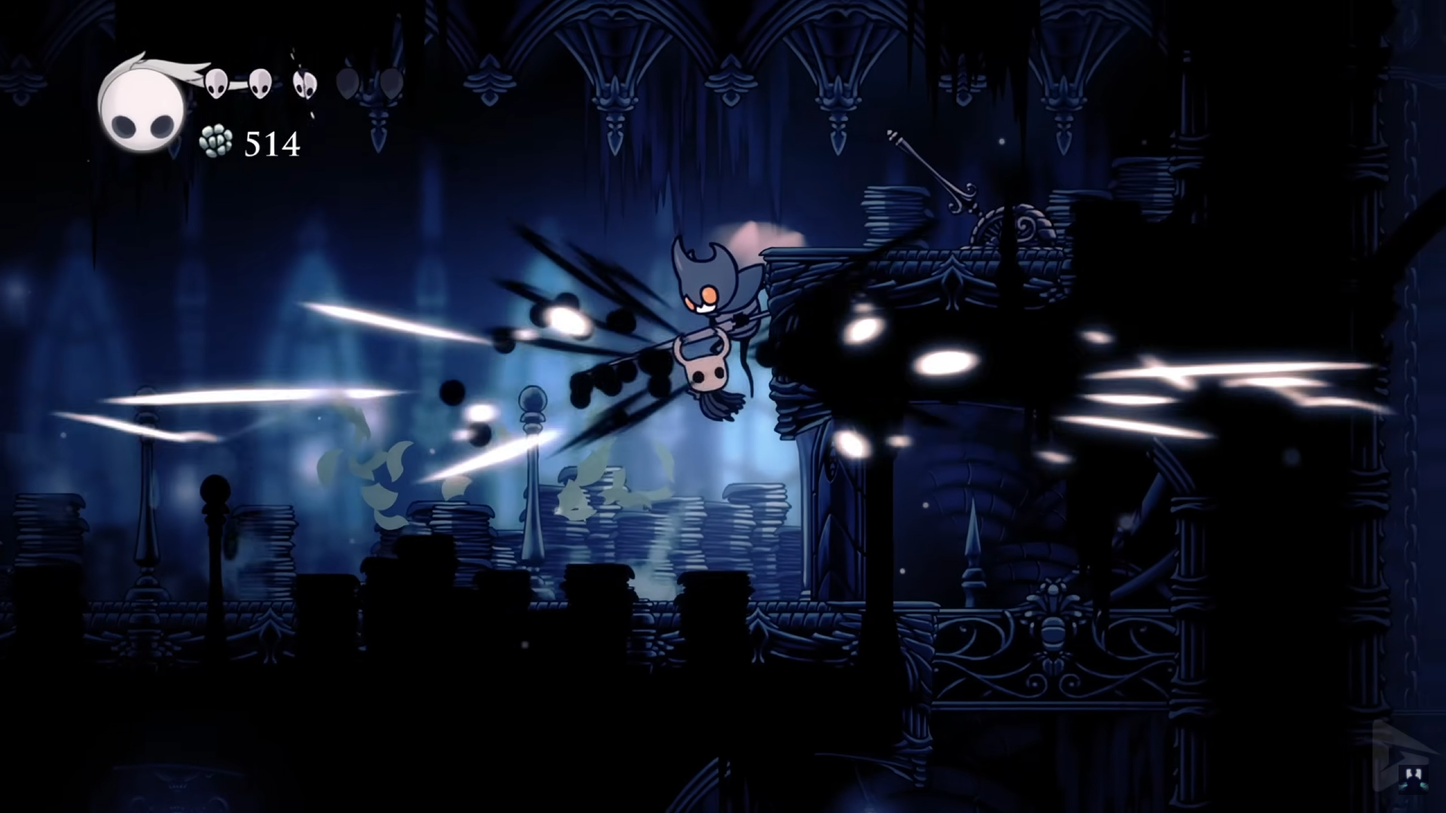HK: (670, 316, 743, 425)
